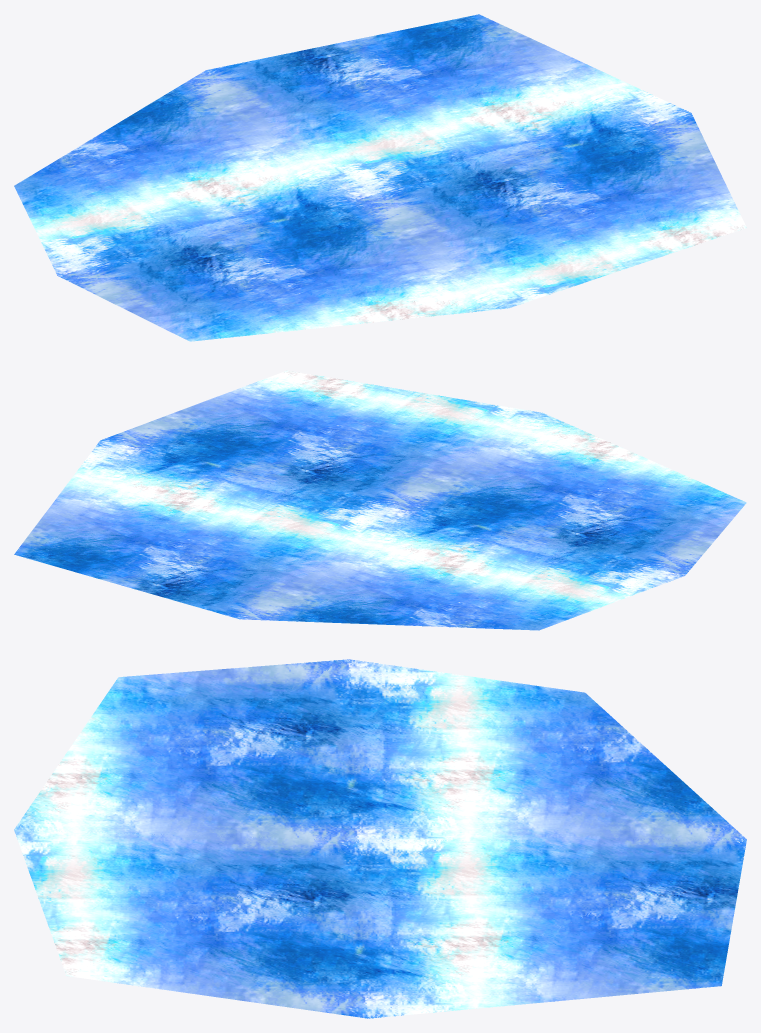
Rendered from s0_Water_Pond_01__1__01.glb.
3 renders of one model, top to bottom at view 1: azimuth 30°, elevation 25°; view 2: azimuth 150°, elevation 25°; view 3: azimuth 270°, elevation 25°, orthographic. The views are drawn at different scales.
Parts seen in each view (by area): view 1: node_Water_Pond_01 (1); view 2: node_Water_Pond_01 (1); view 3: node_Water_Pond_01 (1).
Part boxes in pixels (<box>): node_Water_Pond_01 (1): <box>14,14,746,341</box>; node_Water_Pond_01 (1): <box>14,370,746,630</box>; node_Water_Pond_01 (1): <box>14,659,746,1018</box>.
Bounding box in the file's own units: 14.05 × 0 × 12.11.
1 material, 1 textured.
